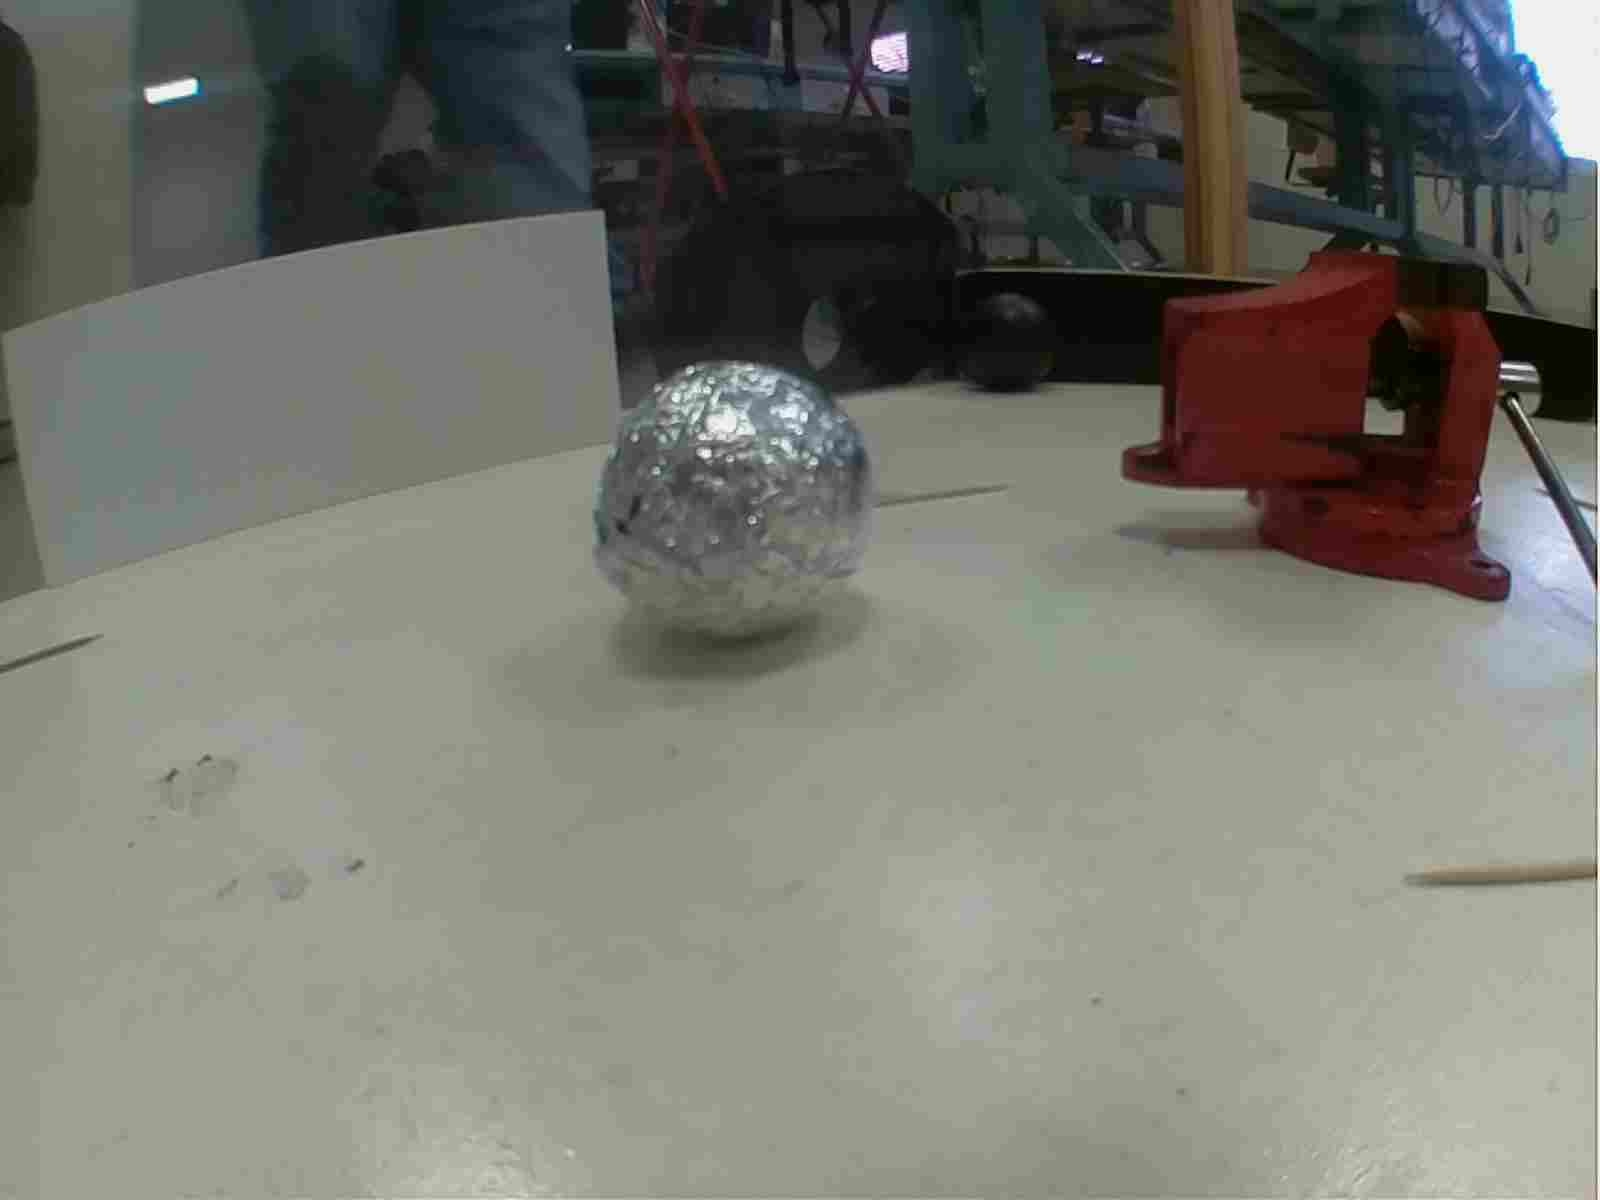bianca: (600, 366, 879, 645)
nera: (950, 291, 1051, 393)
